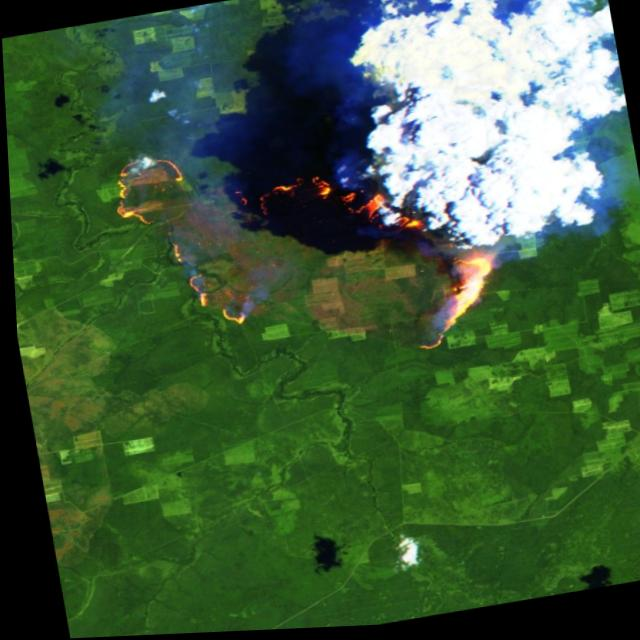fire: (100, 104, 509, 403)
